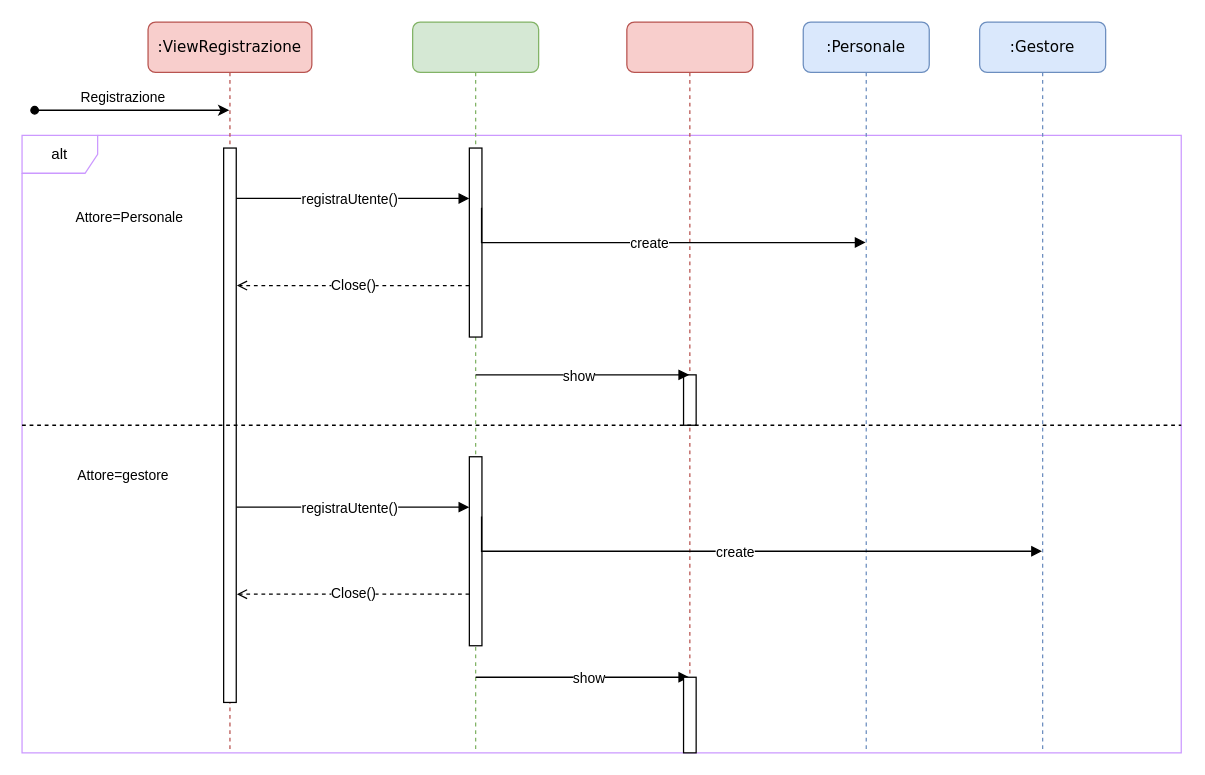
This 1205x775 diagram has some shape labels left out. Each missing label, with the box of its shape:
:Registrazione Controller: (411, 21, 539, 753)
:ViewLogin: (626, 21, 753, 753)
